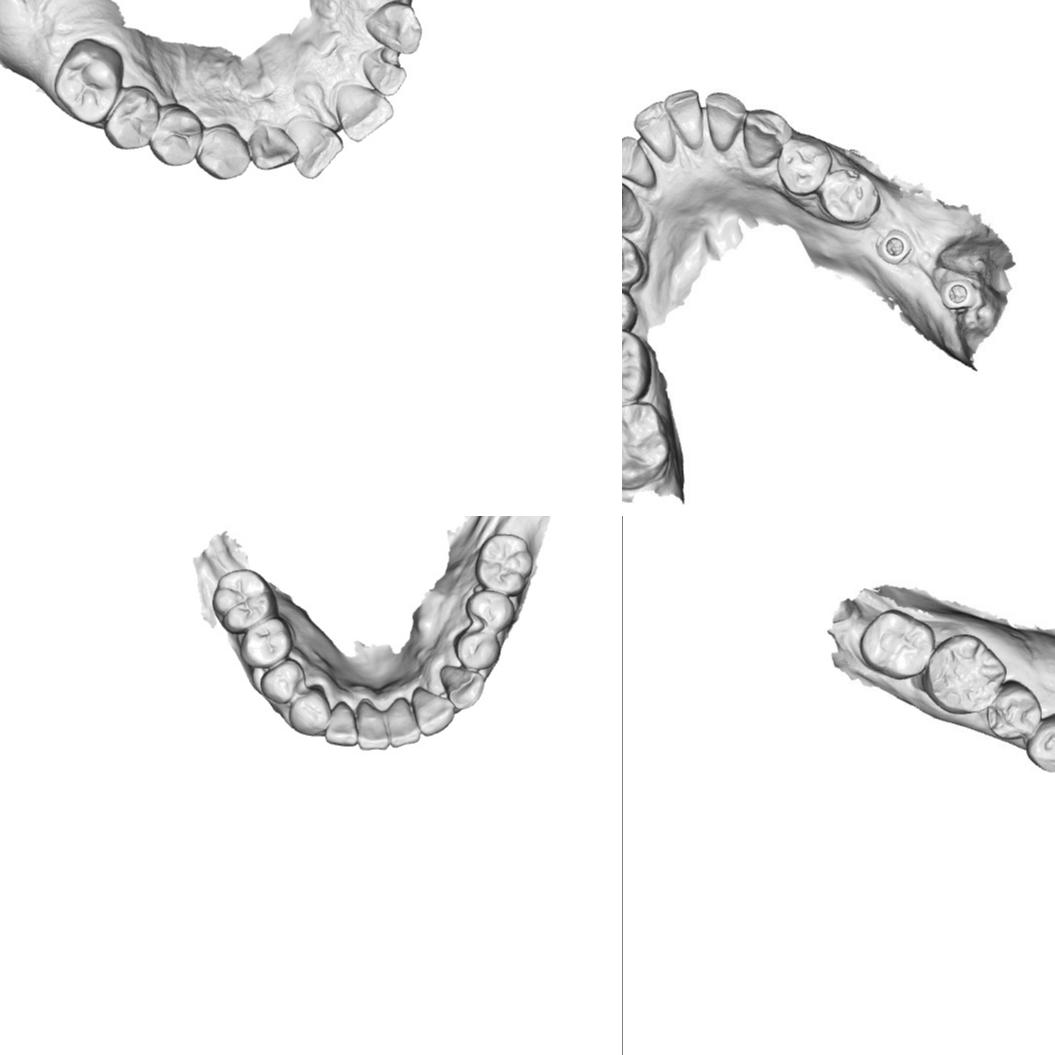canine: (364, 0, 423, 55), (742, 108, 792, 168), (245, 118, 299, 172), (437, 663, 486, 713), (286, 686, 332, 737), (622, 179, 644, 233)
implant: (877, 228, 912, 265), (939, 278, 976, 310)
incisor: (284, 114, 344, 179), (335, 78, 393, 141), (633, 100, 677, 162), (705, 90, 746, 152), (663, 89, 704, 150), (410, 685, 456, 738), (360, 50, 409, 96), (354, 698, 390, 752), (622, 135, 656, 189), (387, 694, 421, 748), (322, 698, 358, 748)
molar: (924, 631, 1007, 717), (52, 39, 124, 124), (858, 608, 938, 680), (211, 568, 277, 636), (622, 401, 671, 490), (473, 532, 534, 598), (102, 84, 160, 150), (622, 328, 651, 407)
premolar: (148, 102, 204, 167), (819, 167, 881, 223), (988, 680, 1043, 743), (776, 136, 833, 196), (195, 121, 251, 179), (239, 616, 294, 668), (462, 587, 516, 634), (451, 628, 501, 674), (258, 658, 304, 706), (1023, 712, 1055, 776), (622, 231, 644, 286), (622, 284, 638, 334)
